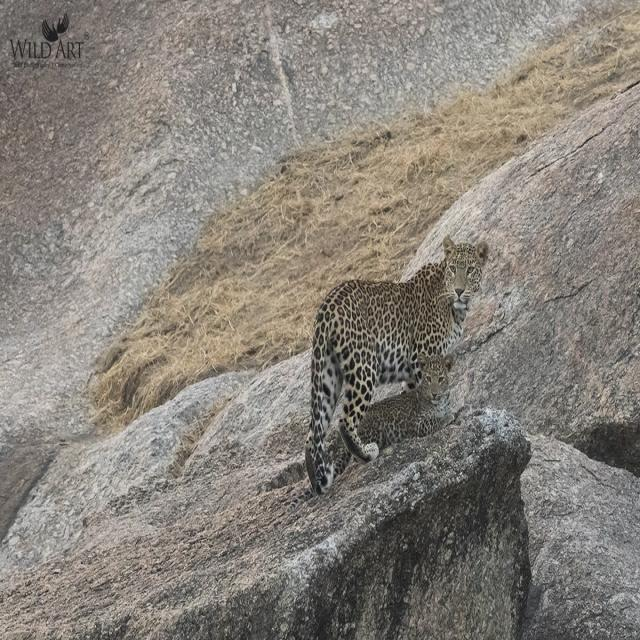Leopard: (311, 236, 488, 493)
